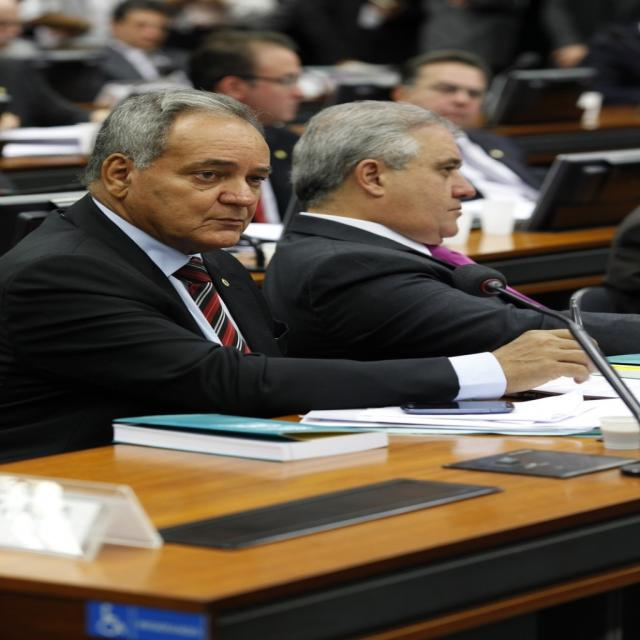desk: (0, 414, 639, 640)
laptop: (508, 283, 640, 425)
person: (0, 87, 589, 441), (260, 100, 599, 383), (186, 30, 316, 224), (390, 51, 543, 205), (566, 203, 640, 359)
